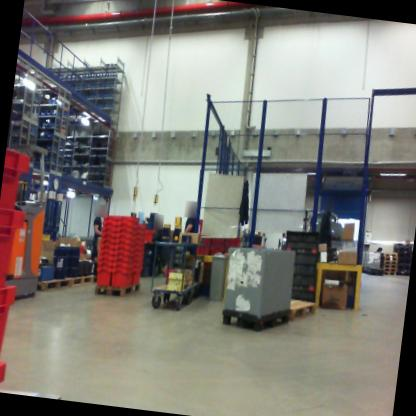forklift: (0, 129, 59, 313)
pallet: (264, 290, 320, 328), (92, 274, 144, 301), (38, 271, 73, 299), (66, 273, 92, 293), (377, 248, 397, 257), (380, 258, 398, 265), (380, 266, 397, 273), (377, 255, 398, 260), (380, 263, 398, 268), (379, 271, 394, 277)
small_load_carrier: (0, 278, 27, 381), (0, 210, 30, 297), (0, 141, 32, 213), (109, 267, 134, 290), (0, 360, 14, 391), (93, 263, 111, 286), (132, 269, 144, 287)
